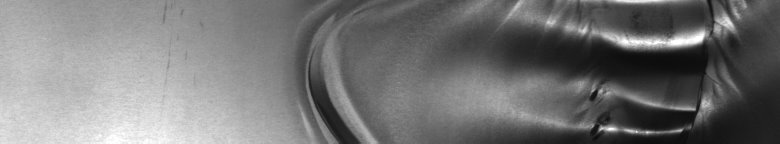ke: (503, 4, 752, 136)
